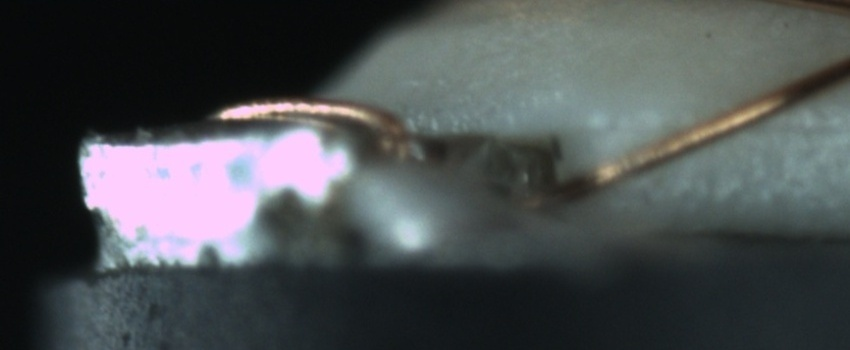DL: (614, 93, 849, 158)
TE: (217, 96, 413, 162)
